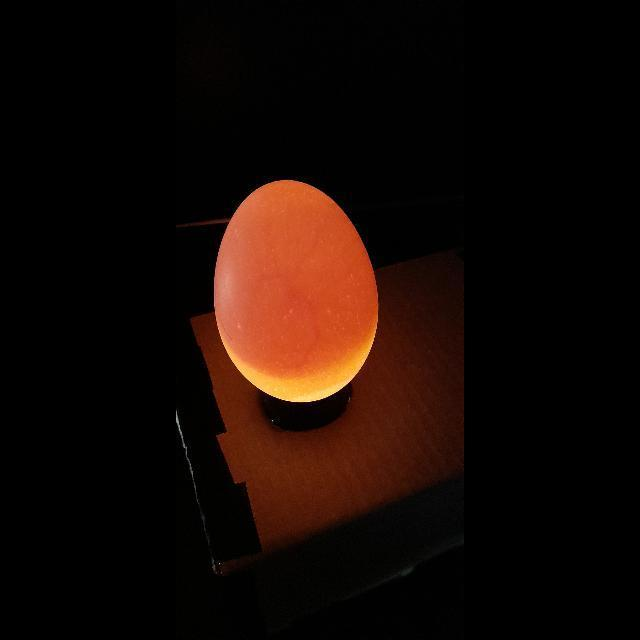Inedible: (199, 173, 398, 419)
